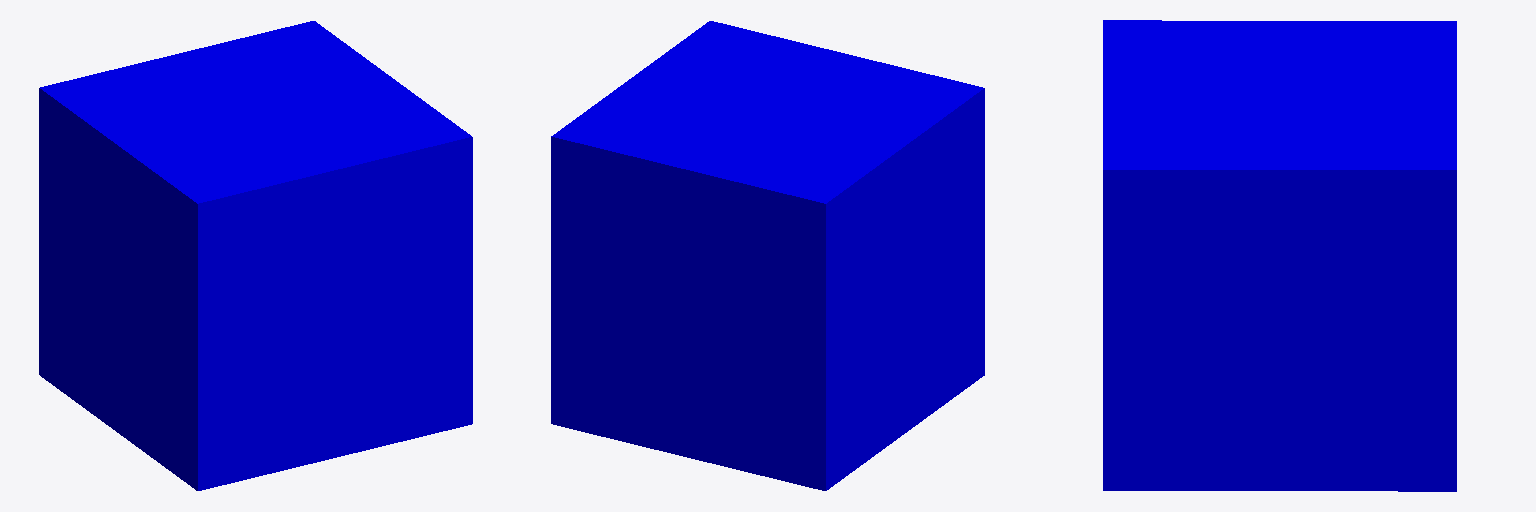
robot.urdf — root:
<?xml version="0.0" ?>
<robot name="root">
  <link name="base">
    <inertial>
      <origin rpy="0 0 0" xyz="0 0 0"/>
      <mass value="0.001"/>
      <inertia ixx="-4.46E-06" ixy="-4.55E-07" ixz="1.95E-06" iyy="-2.47E-06" iyz="8.51E-08" izz="2.17E-06"/>
    </inertial>
    <visual>
      <origin rpy="1.57 0.0 1.57" xyz="0 0 0.0"/>
      <geometry>
        <box size="0.2 0.2 0.2"/>
      </geometry>
      <material name="blue">
      </material> 
    </visual>
    <collision>
      <origin rpy="1.57 0 1.57" xyz="0 0 0.0"/>
      <geometry>
        <box size="0.2 0.2 0.2"/>
      </geometry>
    </collision>
  </link>

  <material name="panda_white">
    <color rgba="1. 1. 1. 1."/>
  </material>
  <material name="red">
    <color rgba="1.0 0. 0. 1.0"/>
  </material>
  <material name="blue">
    <color rgba="0. 0. 1. 1.0"/>
  </material>
  <material name="green">
    <color rgba="0. 1. 0. 1.0"/>
  </material>
  <material name="Yellow">
    <color rgba="0.949 0.878 0.0392 1.0"/>
  </material>
  <material name="Blue">
    <color rgba="0.12156 0.3804 0.6745 1.0"/>
  </material>
  <material name="Red">
    <color rgba="0.9254901 0.243137 0.086274509 1.0"/>
  </material>

</robot>

--- What the picture shows (computed from the rendered views, not written in the file) ---
The picture shows the robot from 3 angles, left to right: view 1: azimuth 30°, elevation 25°; view 2: azimuth 150°, elevation 25°; view 3: azimuth 270°, elevation 25°; orthographic projection.
Robot: root — 1 links, 0 joints (none); root link base; default pose: every joint at zero.
Visible links, largest first — view 1: base; view 2: base; view 3: base.
Boxes of the visible links, box(x1,y1,x2,y2) form: base: box(39, 21, 472, 490); base: box(551, 21, 984, 490); base: box(1103, 20, 1456, 491).
Bounding box of the posed robot: 0.2003 × 0.2002 × 0.2002 m (x, y, z).
Geometry: primitives only (box / cylinder / sphere), no mesh files.